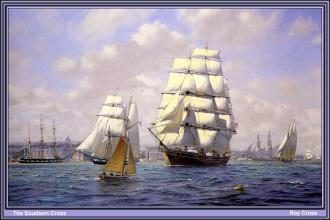fanchuan: (156, 39, 244, 170), (82, 88, 148, 167), (16, 109, 89, 169), (95, 91, 143, 181), (271, 116, 305, 163)
